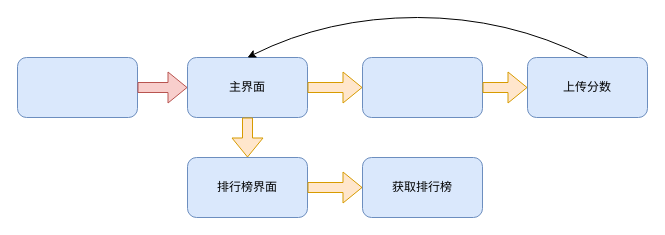
Image size: 665x235. Some labels were removed from this diagram. The shapes that lost their labels are listed below. From the top down, each one's box as (x1, y1, x2, y2) in pixels, then its label:
(16, 56, 138, 118): 登录获取头像,名称
(362, 56, 482, 118): 游戏
